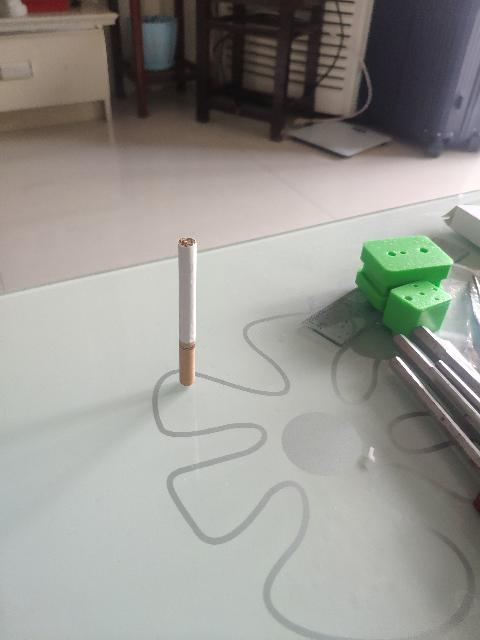Smoking: (178, 238, 196, 386)
